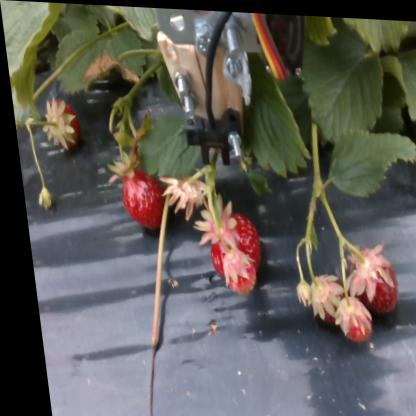ripe: (202, 209, 258, 279), (113, 162, 160, 229), (344, 254, 393, 304), (42, 101, 82, 151), (303, 276, 340, 322), (215, 244, 248, 287), (335, 295, 366, 337)
